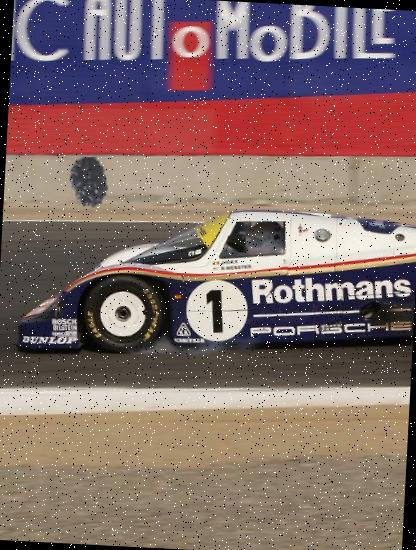Mulberry: (61, 155, 116, 210)
